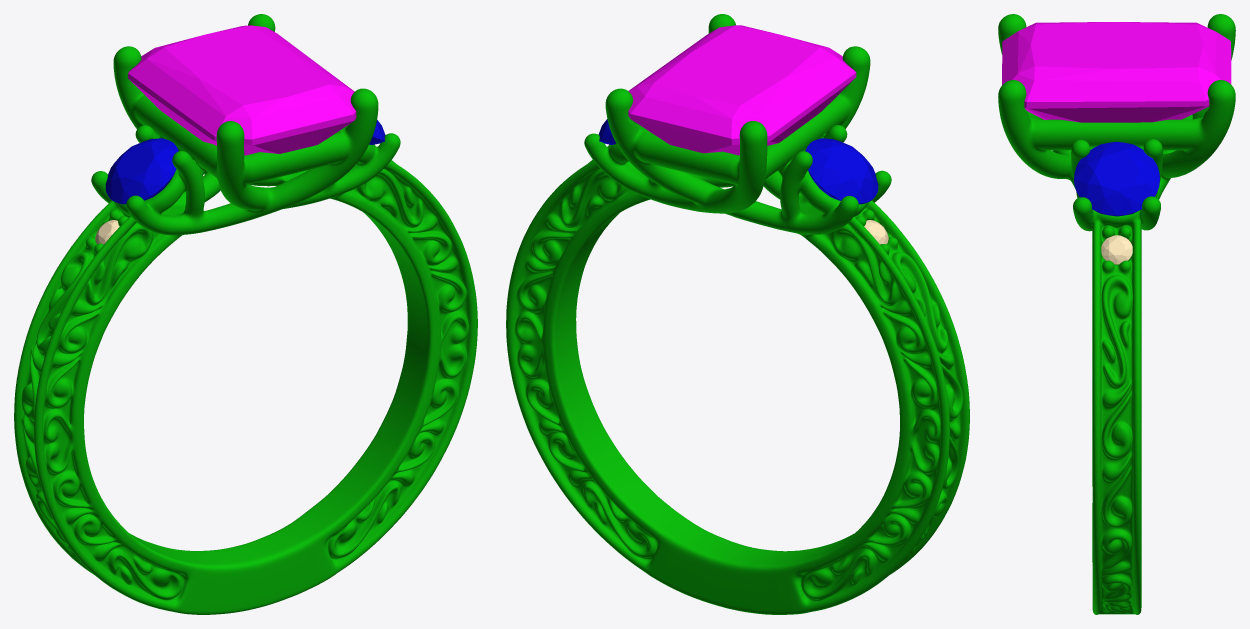
Rendered from BE1DAS2R30_RA_200ct_RENDER.glb.
3 renders of one model, left to right at view 1: azimuth 30°, elevation 25°; view 2: azimuth 150°, elevation 25°; view 3: azimuth 270°, elevation 25°, orthographic.
Parts seen in each view (by area): view 1: Metal 01, CS_Diamond_Radiant, Diamond_Round_side; view 2: Metal 01, CS_Diamond_Radiant, Diamond_Round_side; view 3: Metal 01, CS_Diamond_Radiant, Diamond_Round_side.001, Diamond_Round_Gem_SH.001.
Part boxes in pixels (box(x1,y1,x2,y2)): Metal 01: box(14, 14, 477, 614); CS_Diamond_Radiant: box(128, 25, 356, 155); Diamond_Round_side: box(105, 138, 178, 204); Metal 01: box(506, 14, 969, 614); CS_Diamond_Radiant: box(628, 25, 856, 155); Diamond_Round_side: box(805, 138, 878, 204); Metal 01: box(998, 14, 1235, 614); CS_Diamond_Radiant: box(1002, 22, 1231, 122); Diamond_Round_side.001: box(1074, 141, 1159, 216); Diamond_Round_Gem_SH.001: box(1101, 235, 1132, 264).
Bounding box in the file's own units: 21.19 × 24.48 × 9.67.
